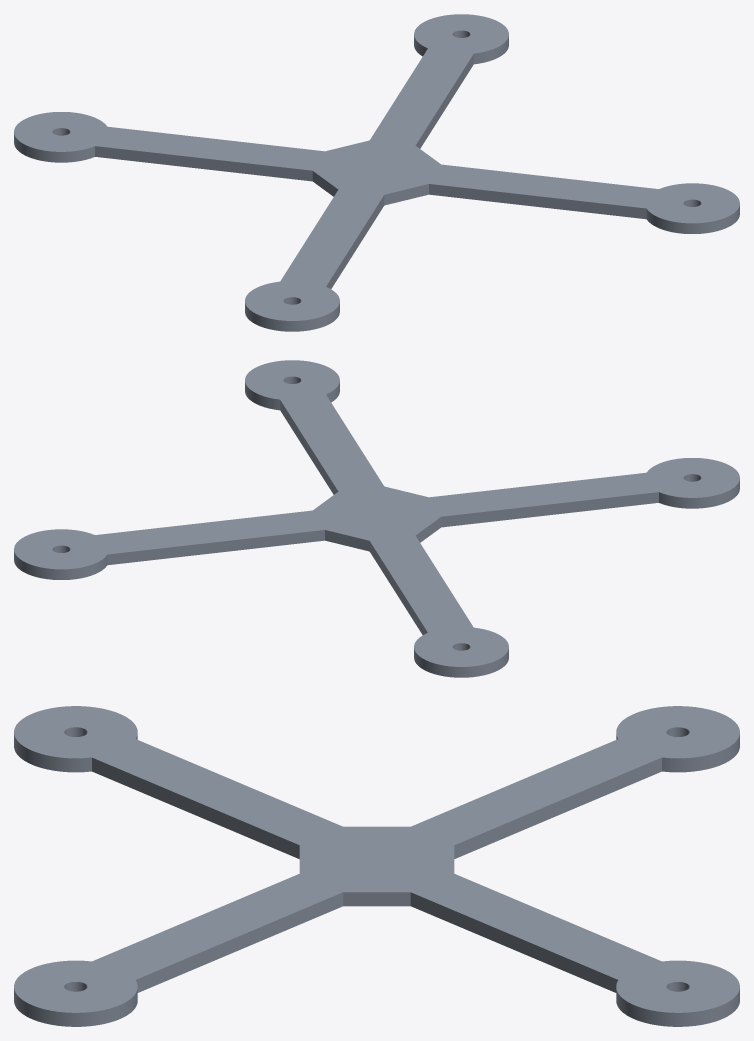
The model's file is step-2-preview-2.glb.
The picture shows the model from 3 angles, top to bottom: view 1: azimuth 30°, elevation 25°; view 2: azimuth 150°, elevation 25°; view 3: azimuth 270°, elevation 25°; orthographic projection. The views are drawn at different scales.
Visible parts, largest first — view 1: preview_3, preview_11, preview_12, preview_17, preview_9, preview_10, preview_4, preview_15, preview_0; view 2: preview_3, preview_2, preview_16, preview_10, preview_0, preview_17, preview_7, preview_8, preview_9; view 3: preview_3, preview_8, preview_15, preview_4, preview_7, preview_0, preview_9, preview_10, preview_17, preview_5.
Part boxes in pixels (x1,y1,x2,y2): preview_3: (14, 14, 739, 320); preview_11: (429, 184, 646, 219); preview_12: (95, 146, 312, 181); preview_17: (245, 302, 339, 331); preview_9: (646, 205, 739, 233); preview_10: (14, 133, 94, 162); preview_4: (415, 54, 473, 148); preview_15: (326, 195, 384, 288); preview_0: (414, 35, 508, 64); preview_3: (14, 360, 739, 666); preview_2: (107, 530, 324, 565); preview_16: (441, 492, 658, 527); preview_10: (414, 648, 508, 677); preview_0: (14, 551, 107, 579); preview_17: (659, 479, 739, 508); preview_7: (280, 400, 338, 494); preview_8: (369, 541, 427, 634); preview_9: (245, 381, 339, 410); preview_3: (14, 706, 739, 1012); preview_8: (454, 757, 661, 858); preview_15: (92, 757, 299, 858); preview_4: (410, 892, 617, 992); preview_7: (136, 892, 343, 992); preview_0: (616, 988, 739, 1026); preview_9: (14, 988, 137, 1026); preview_10: (616, 734, 739, 772); preview_17: (14, 734, 137, 772); preview_5: (343, 892, 410, 906).
Bounding box in the file's own units: 0.1875 × 0.004 × 0.1875.
